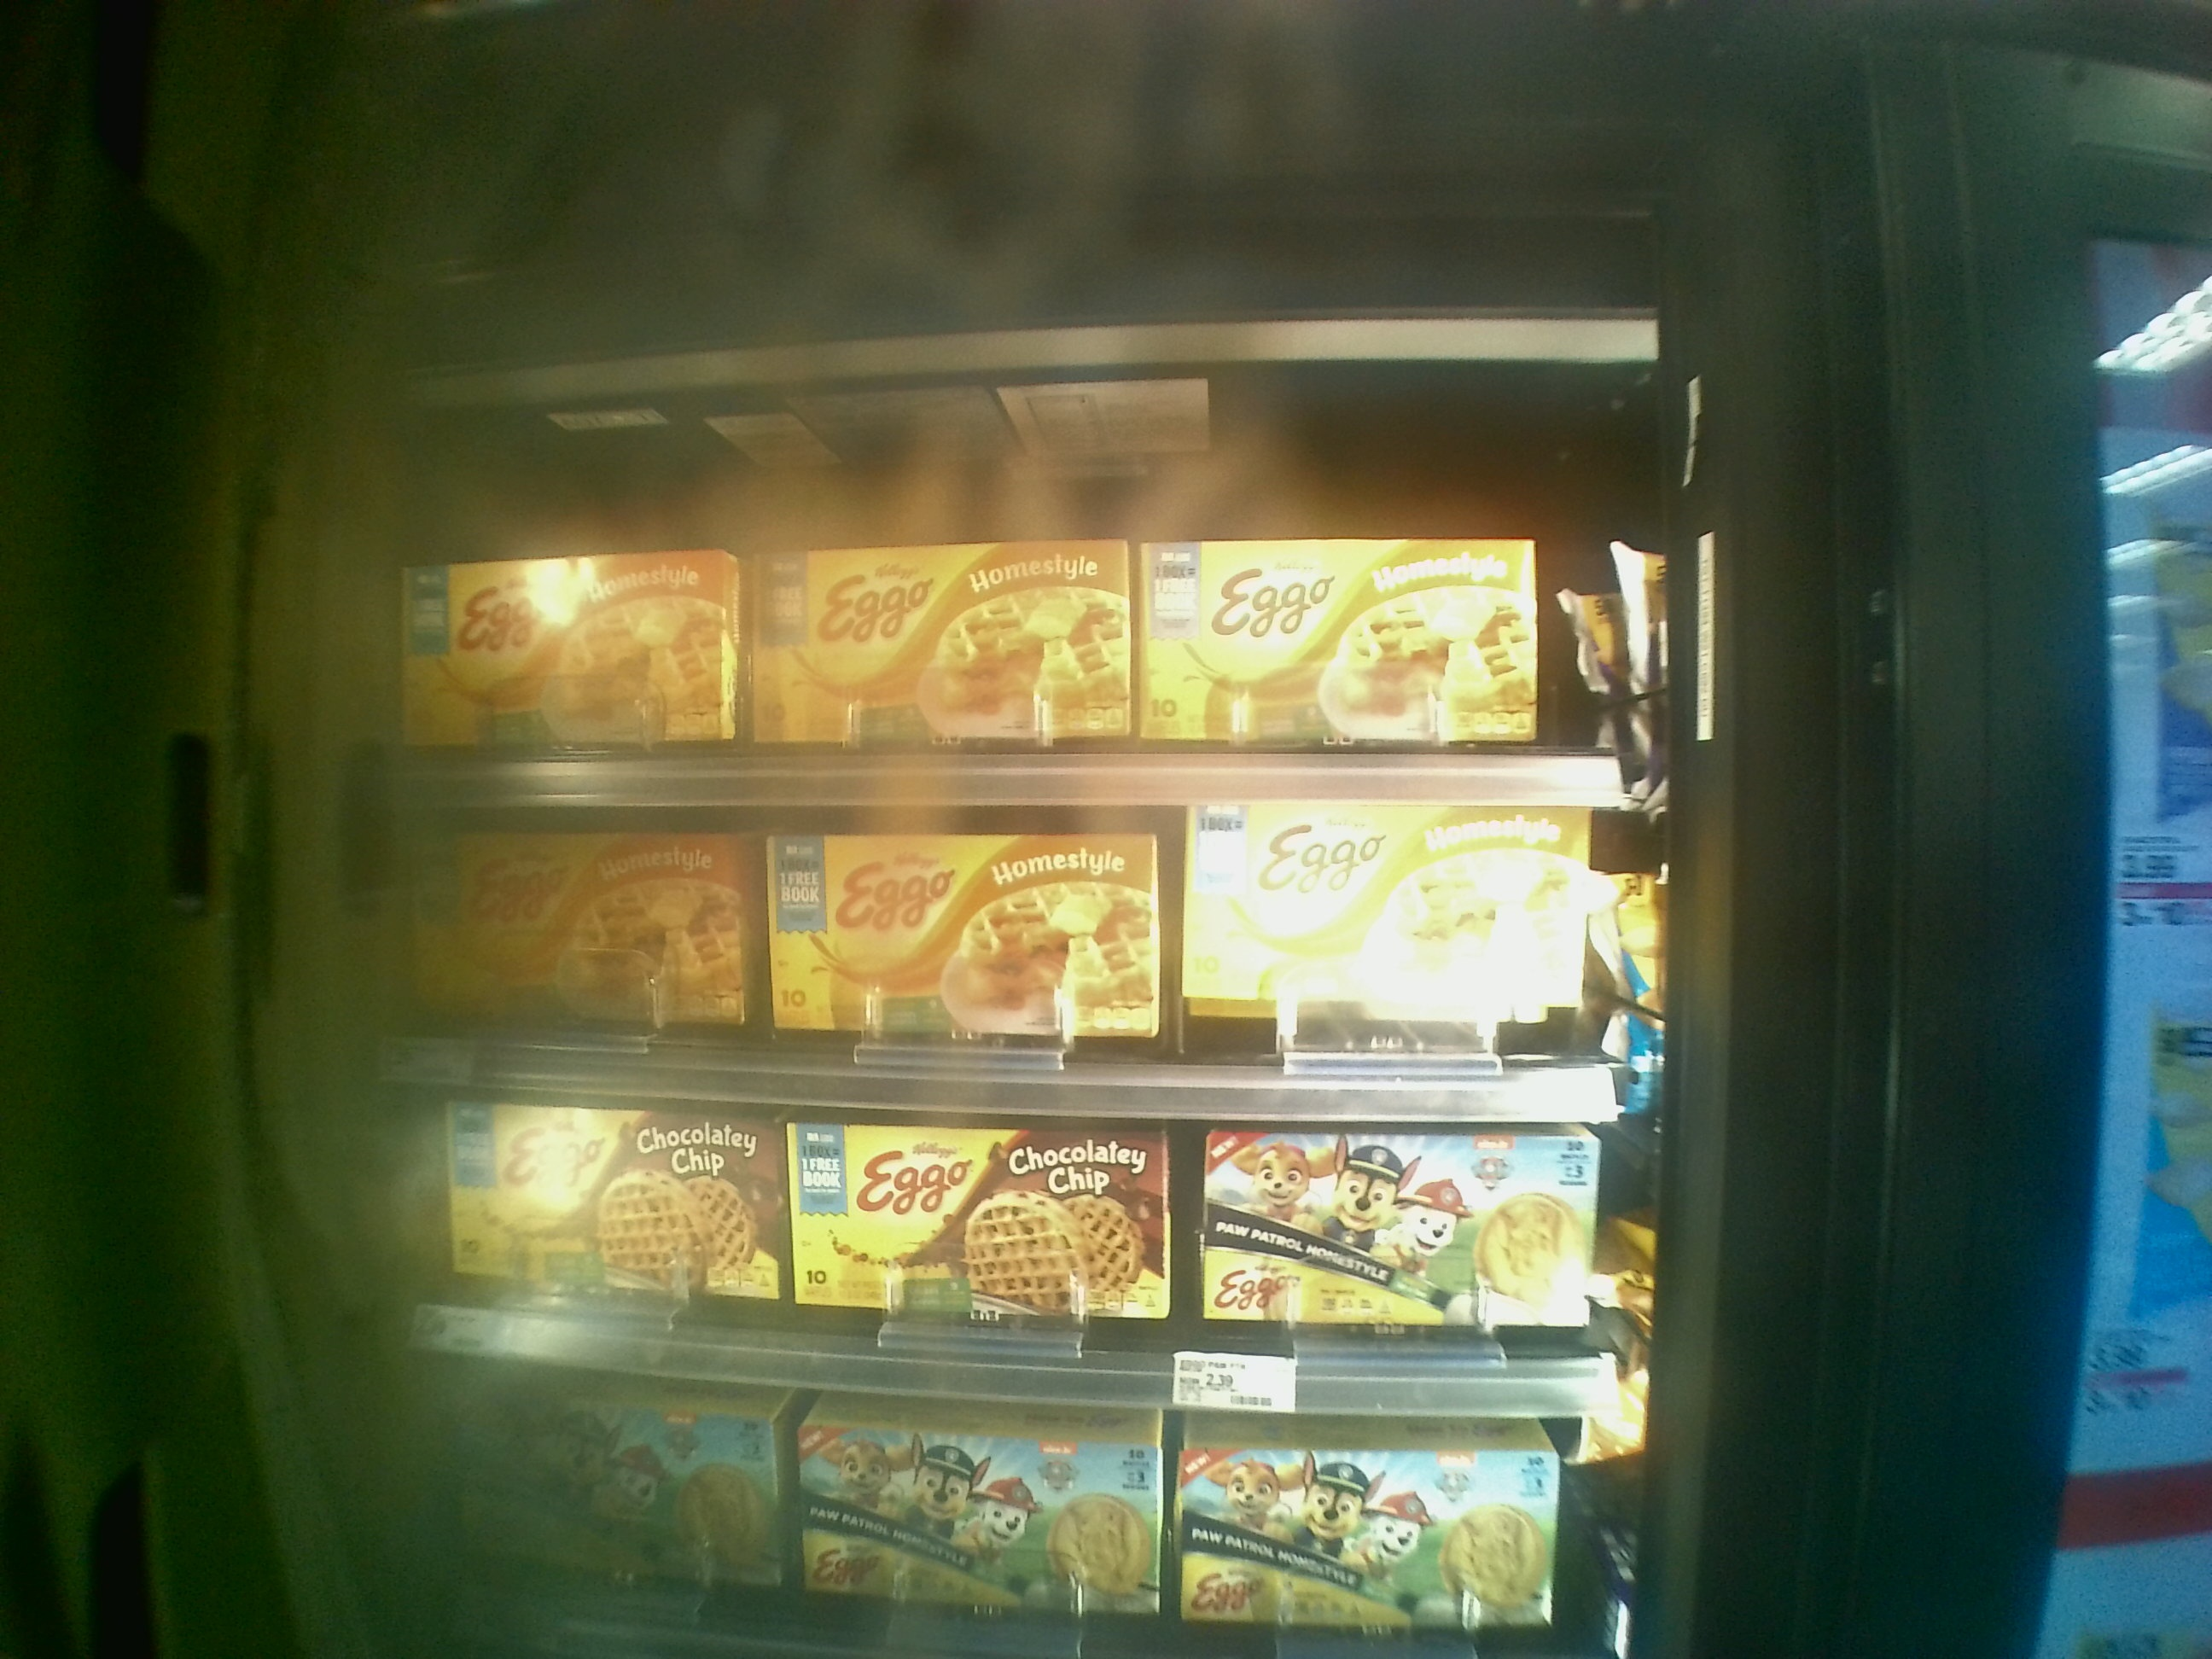shelf: (392, 310, 1658, 802), (392, 791, 1635, 1126)
